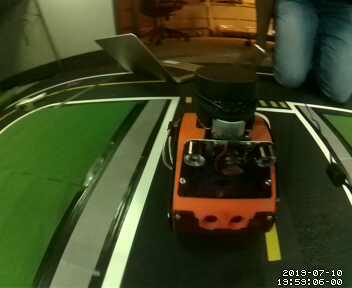pheeno: (173, 65, 277, 239)
